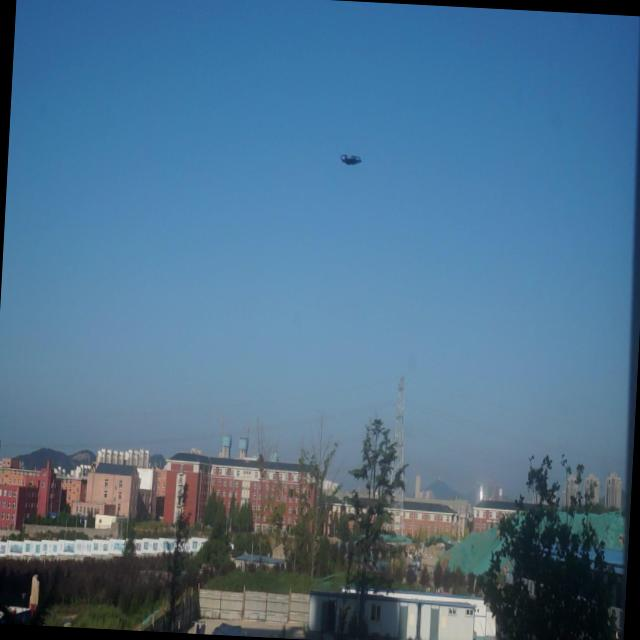drone: (338, 149, 364, 173)
